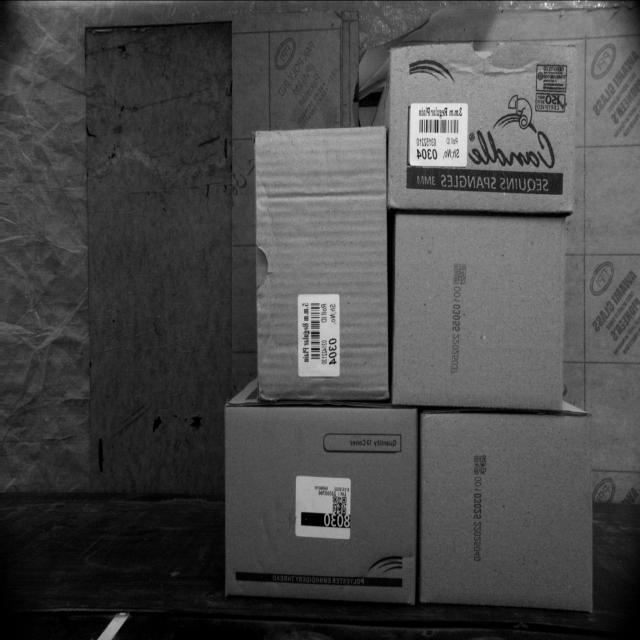cardboxes: (221, 403, 417, 607), (253, 127, 390, 401), (392, 212, 566, 408), (420, 414, 592, 606), (389, 41, 575, 209)
